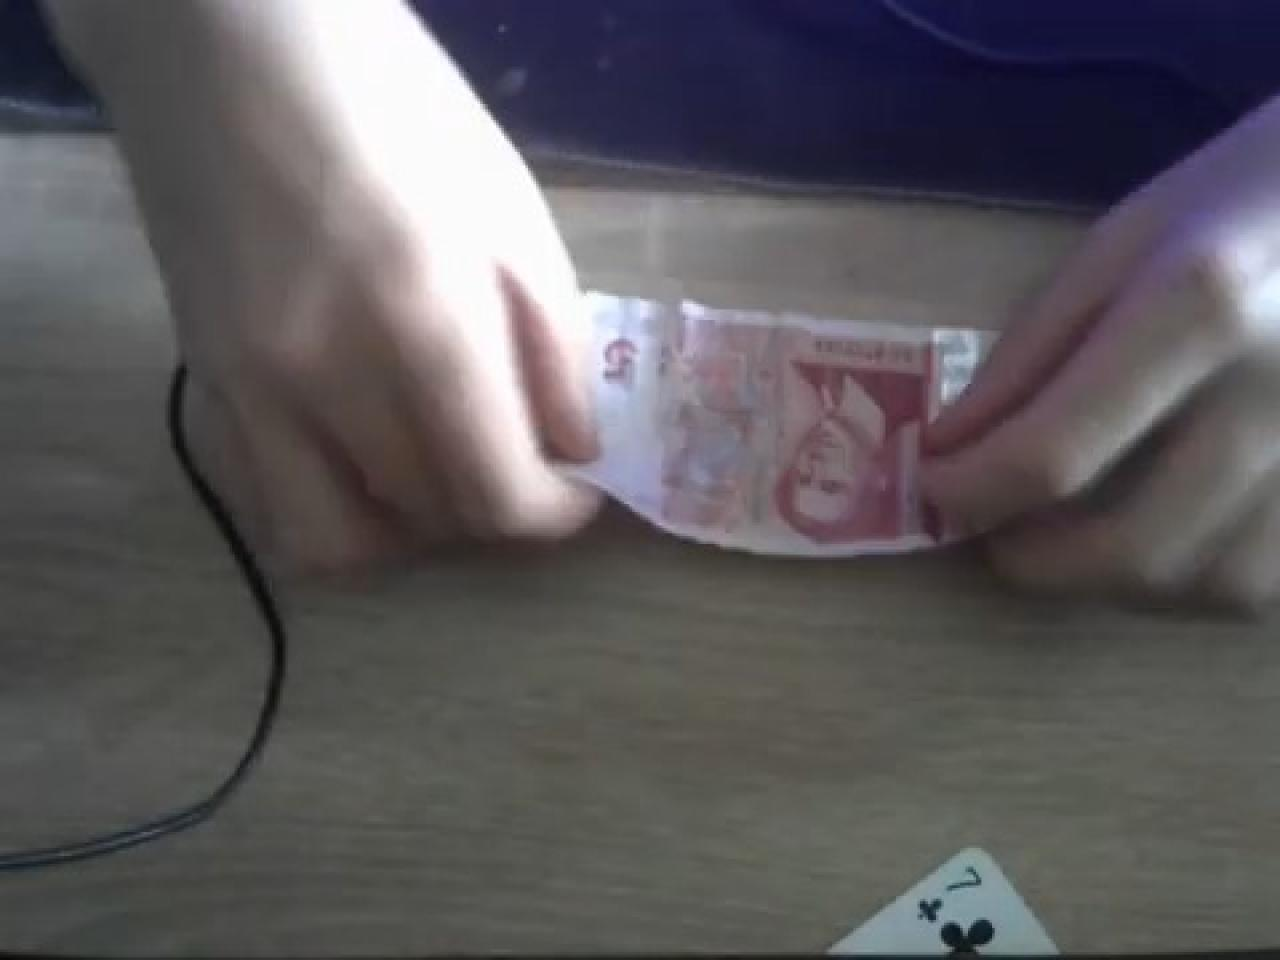5leva: (562, 290, 992, 563)
